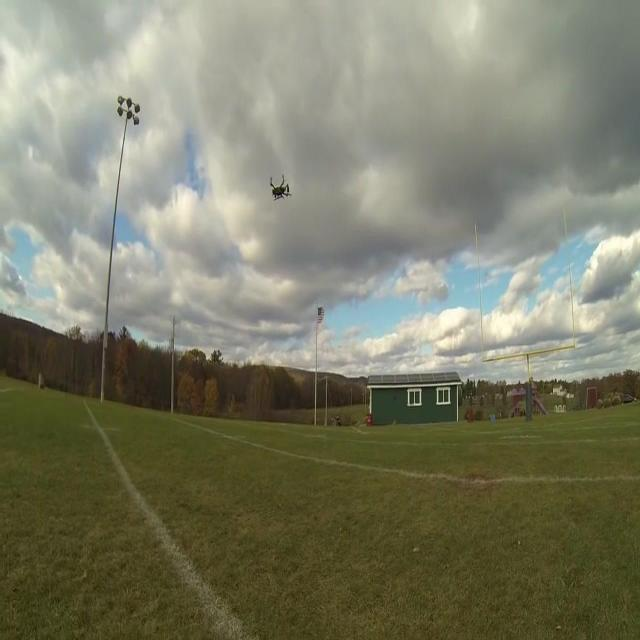UAV: (270, 174, 292, 201)
